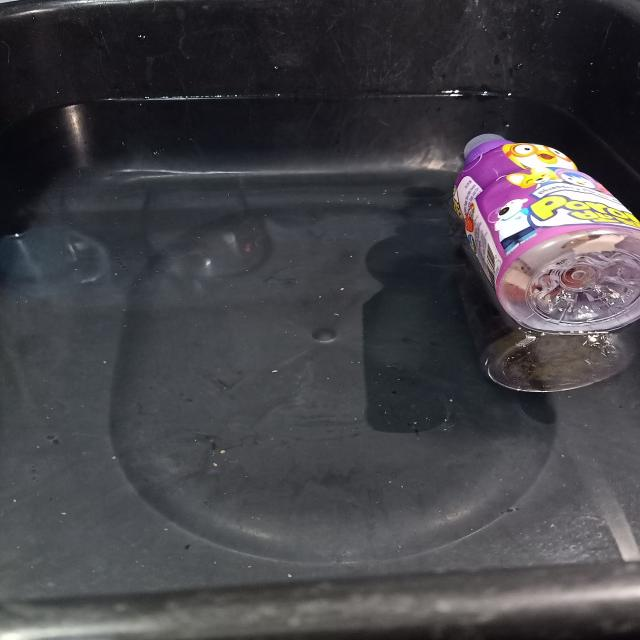Plastic Bottle: (454, 136, 640, 334)
